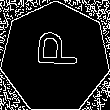P_W: (30, 39, 81, 77)
